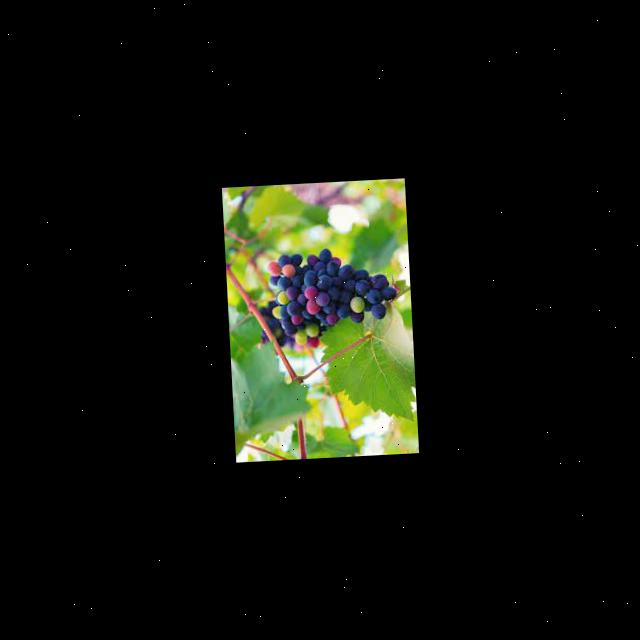grape: (262, 245, 399, 352)
